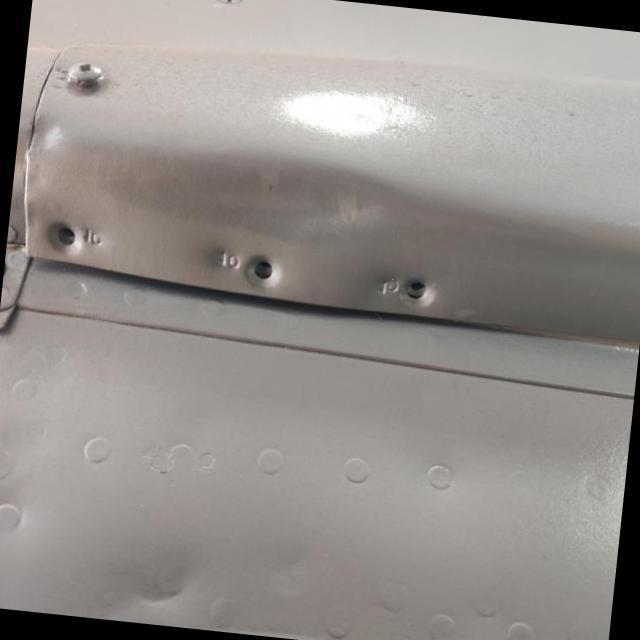Fastener Damage: (28, 195, 98, 271), (226, 233, 298, 302), (382, 256, 450, 324)
